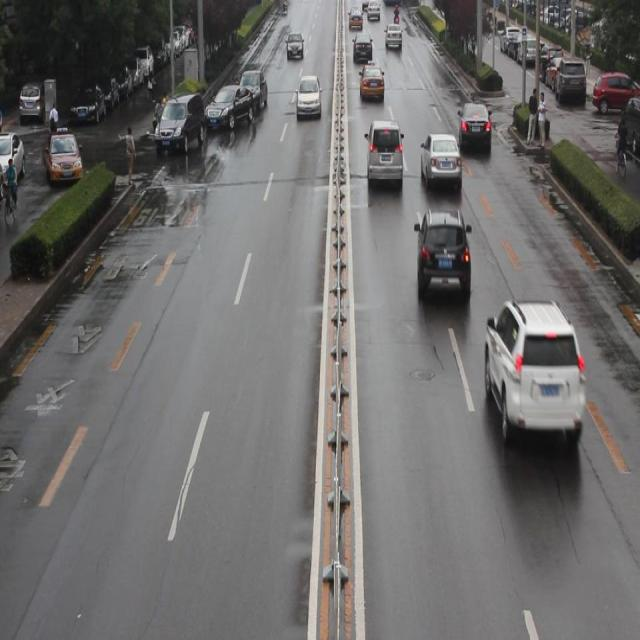car: (482, 297, 583, 452), (415, 209, 469, 308), (204, 82, 253, 134), (418, 134, 460, 190), (457, 99, 490, 153), (236, 67, 266, 111), (294, 75, 319, 117)
truck: (154, 95, 202, 154), (365, 120, 401, 191)
